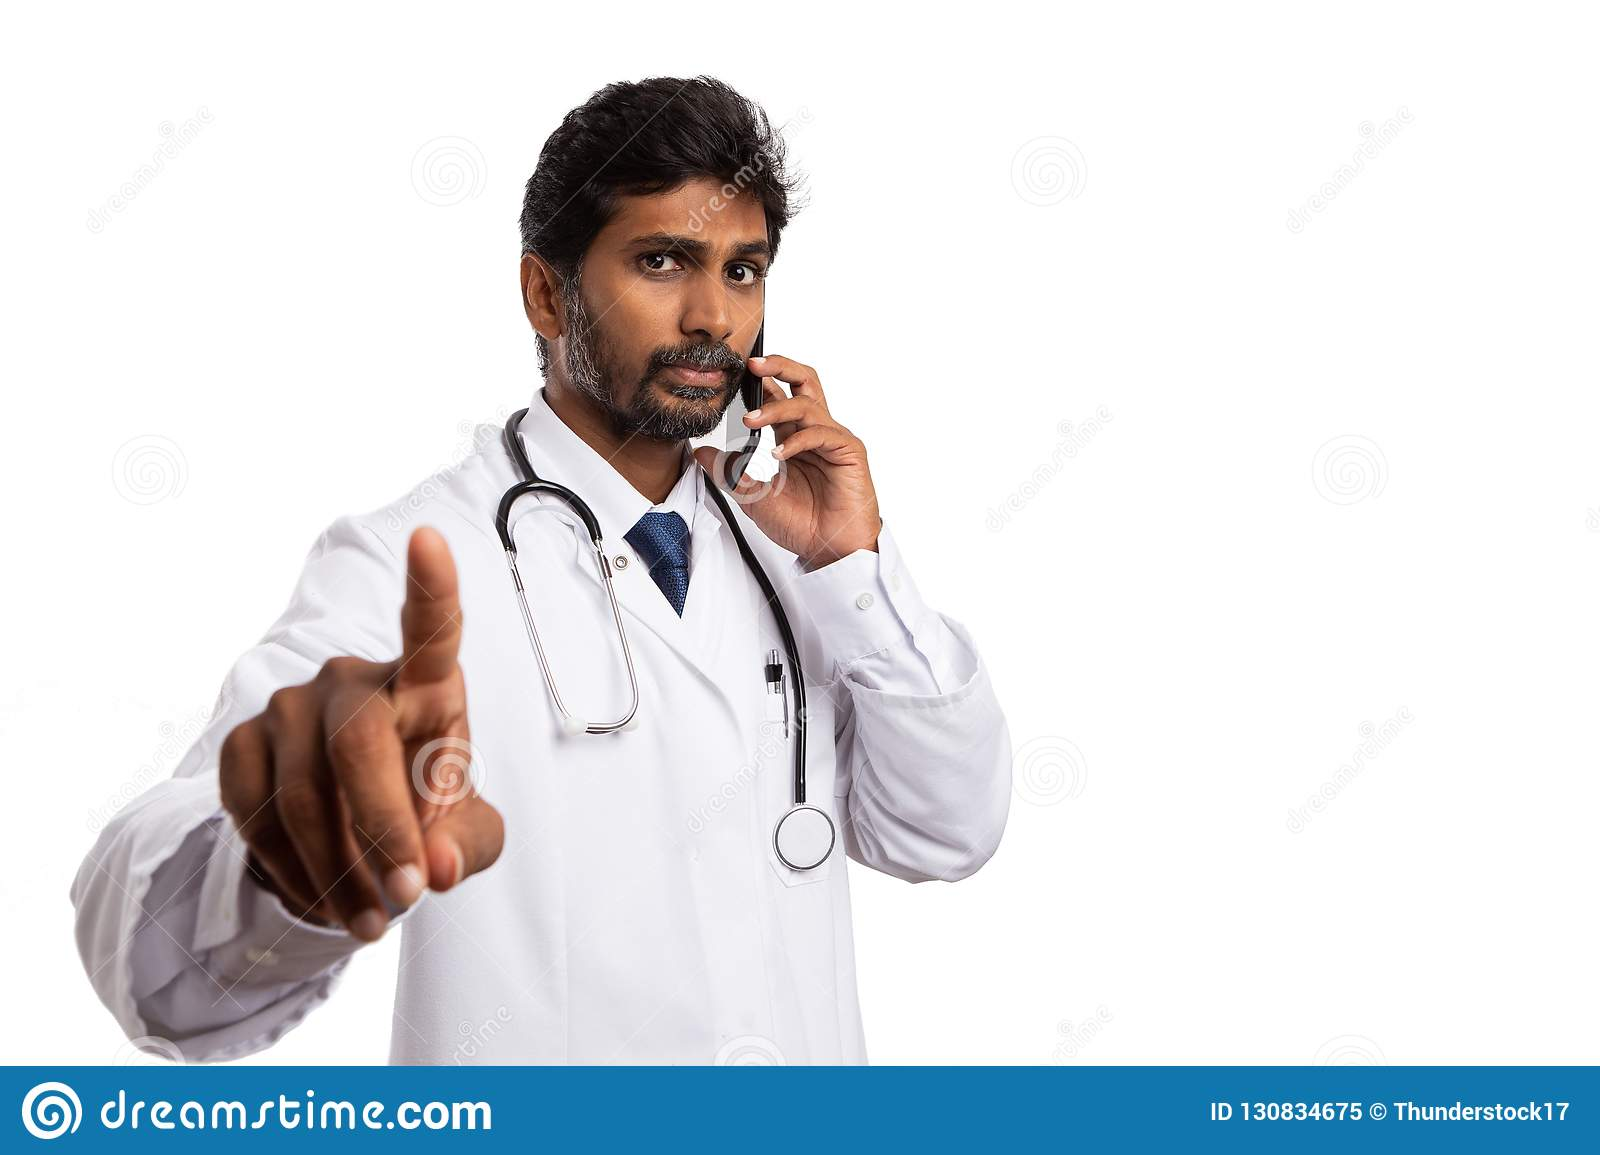phone: (724, 325, 764, 493)
talk: (615, 226, 877, 573)
